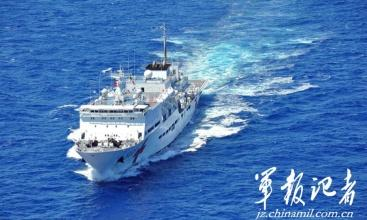warship: (70, 28, 208, 175)
